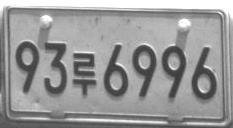3: (43, 41, 68, 94)
6: (190, 46, 217, 100), (102, 44, 129, 97)
9: (131, 44, 157, 97), (161, 45, 187, 98), (14, 40, 39, 93)
루: (71, 52, 96, 96)
